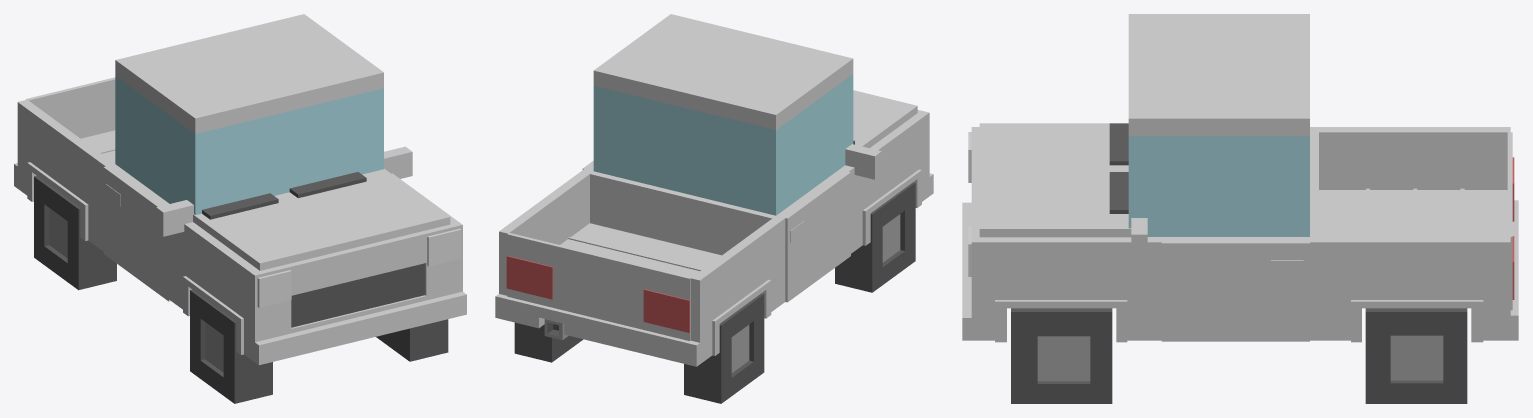
The model's file is pickup.fbx.
The picture shows the model from 3 angles, left to right: view 1: azimuth 30°, elevation 25°; view 2: azimuth 150°, elevation 25°; view 3: azimuth 270°, elevation 25°; orthographic projection. The views are drawn at different scales.
Parts seen in each view (by area): view 1: Camera; view 2: Camera; view 3: Camera.
Part boxes in pixels (box(x1,y1,x2,y2)): Camera: box(14, 14, 466, 403); Camera: box(495, 14, 933, 403); Camera: box(962, 14, 1518, 403).
Size of the model in its own units: 129 by 121 by 220.
